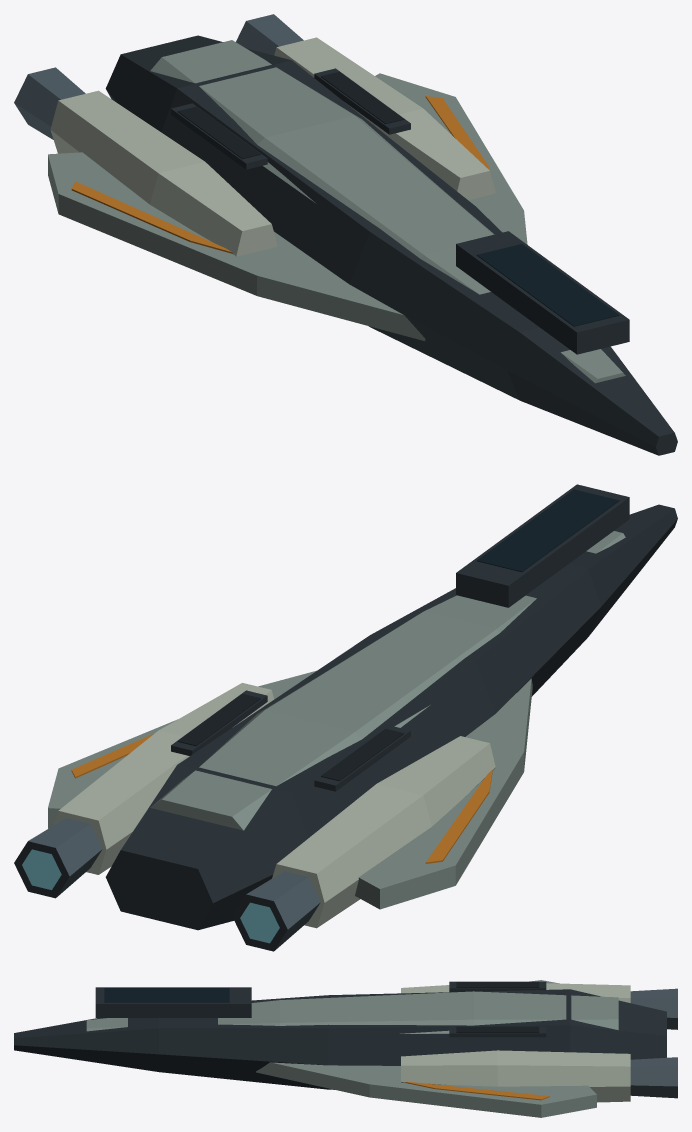
File: interceptor-low.glb
The picture shows the model from 3 angles, top to bottom: view 1: azimuth 30°, elevation 25°; view 2: azimuth 150°, elevation 25°; view 3: azimuth 270°, elevation 25°; orthographic projection. The views are drawn at different scales.
Visible parts, largest first — view 1: AV_interceptor-low; view 2: AV_interceptor-low; view 3: AV_interceptor-low.
Part boxes in pixels (bbox=[...]): AV_interceptor-low: bbox=[14, 14, 677, 455]; AV_interceptor-low: bbox=[14, 484, 677, 951]; AV_interceptor-low: bbox=[14, 980, 677, 1117].
Size of the model in its own units: 0.813 by 0.2571 by 1.83.
1 material, 1 textured.
